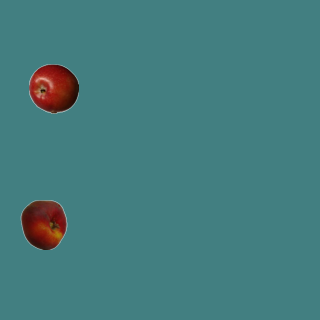Apple Braeburn: (28, 63, 78, 113)
Nectarine Flat: (18, 199, 68, 249)
